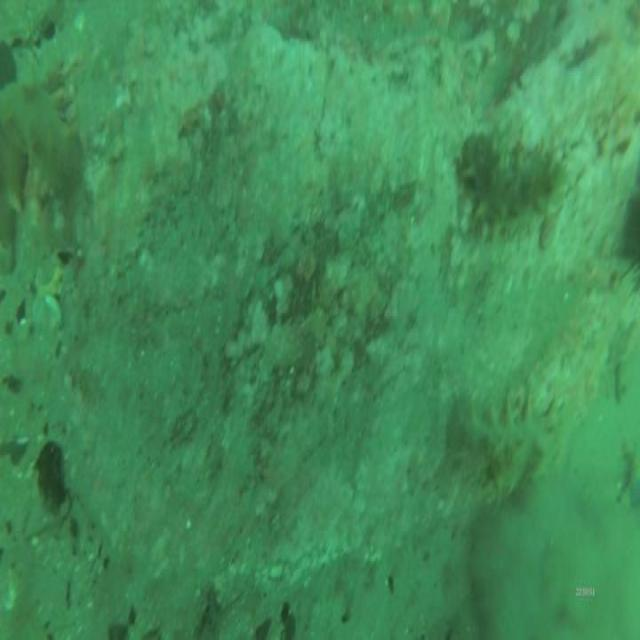echinus: (613, 180, 640, 291)
holothurian: (454, 387, 568, 514), (458, 126, 572, 245), (0, 66, 89, 215)
